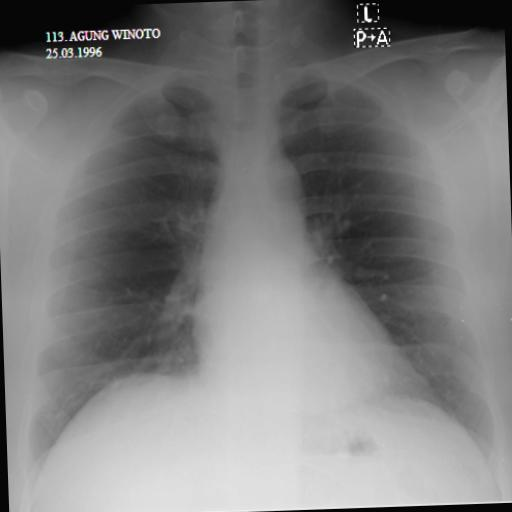normal: (0, 28, 510, 506)
